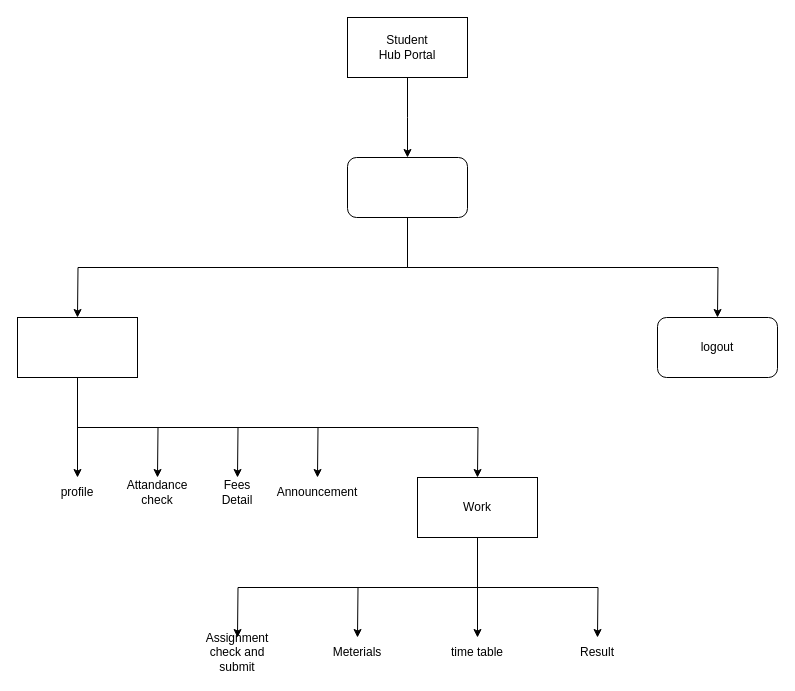
Image size: 795x691. Some labels were removed from this diagram. Each missing label, with the centre of its shape:
"Dashboard" belongs at pixel 77 347.
"Login" belongs at pixel 407 187.
